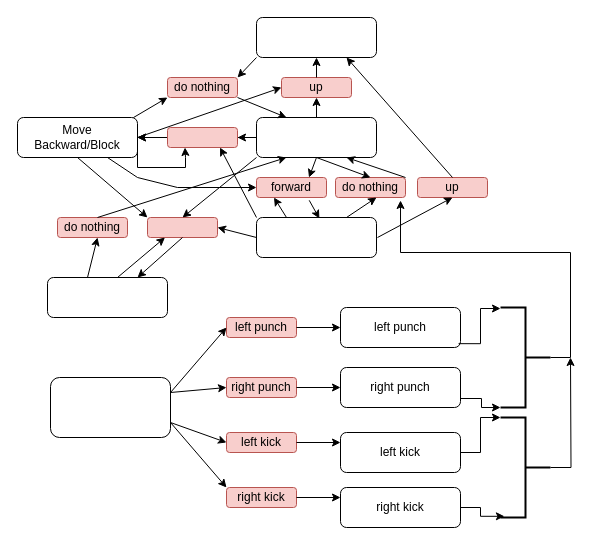
The diagram is 597 pixels wide and 545 high, and some of its shapes have lost their labels. Each missing label, with the centre of its shape:
"all states" goes at point (110, 407).
"backward" goes at point (202, 137).
"Crouch" goes at point (107, 297).
"down" goes at point (182, 227).
"Idle" goes at point (316, 137).
"Jump" goes at point (316, 37).
"Move Forward" goes at point (316, 237).
